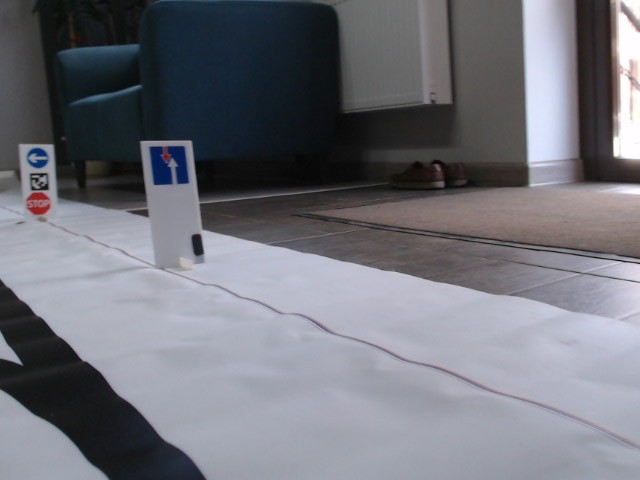Stop: (24, 192, 52, 214)
priority_movement: (147, 144, 191, 187)
